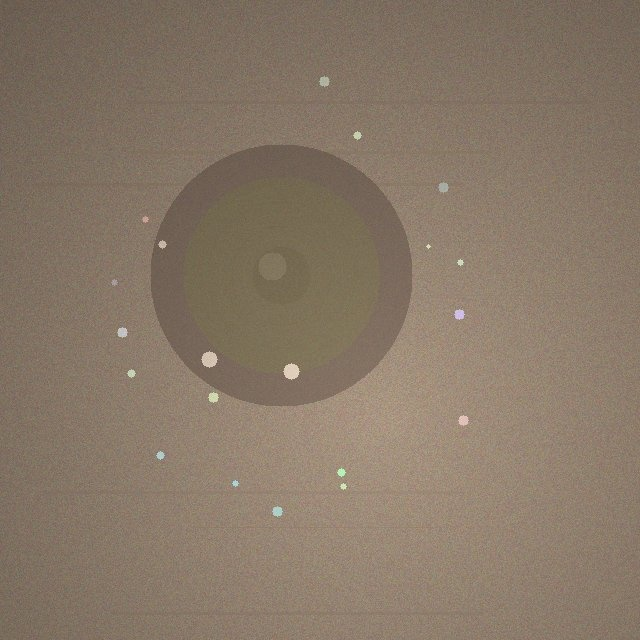overburn: (150, 144, 412, 406)
